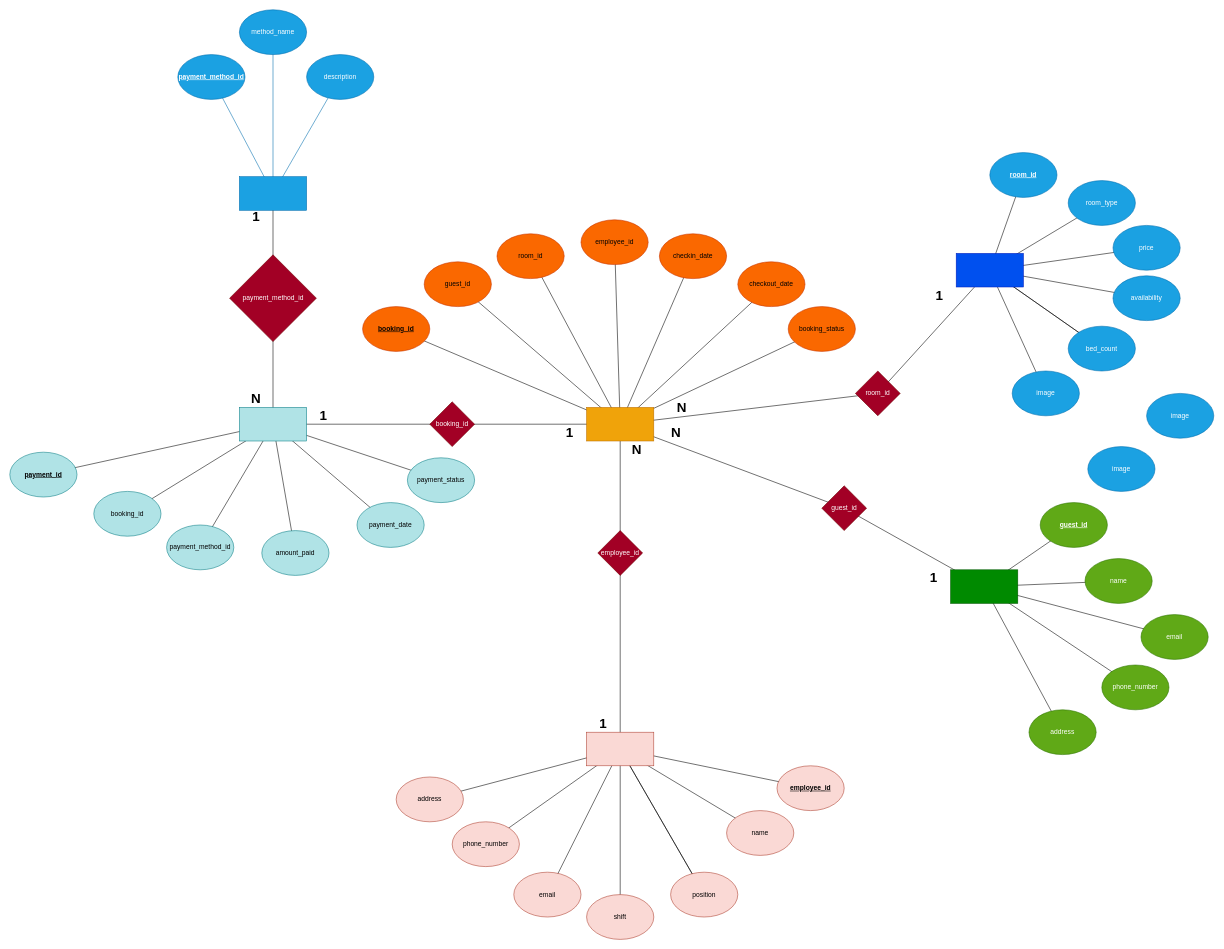
Some shapes in this 1224 by 949 pixel diagram are drawn without their labels. The centre of each missing label's shape, as x and y in pixels:
Bookings: pixel 620 424
Employees: pixel 620 749
Guests: pixel 984 586
PaymentMethods: pixel 273 193
PaymentRooms: pixel 273 424
Rooms: pixel 989 270
